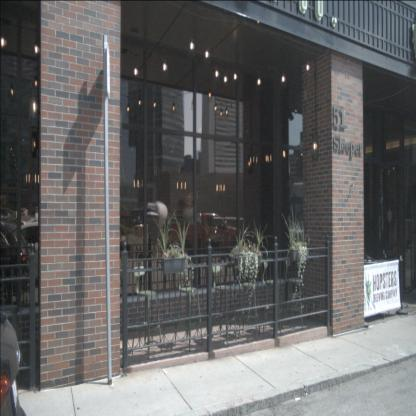vehicle-car: (2, 223, 86, 287), (0, 219, 33, 306)
vehicle-truck: (162, 212, 242, 259)
